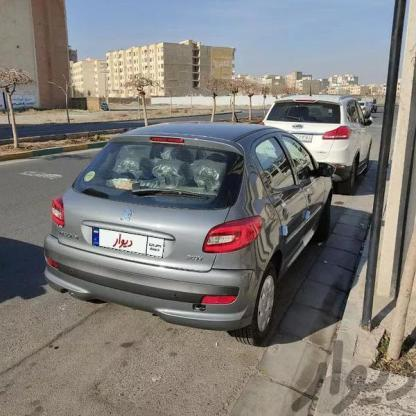Car: (35, 118, 335, 341), (262, 76, 393, 197)
